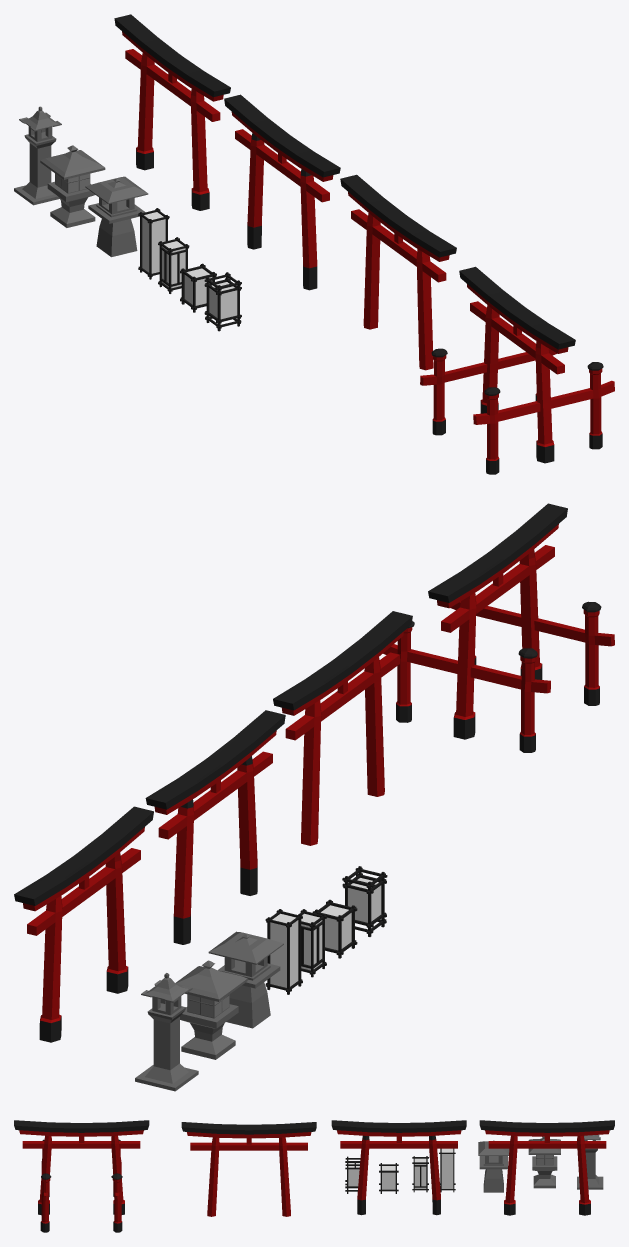
File: LowPoly_Japan1.fbx
3 views of the same model, one above another, from view 1: azimuth 30°, elevation 25°; view 2: azimuth 150°, elevation 25°; view 3: azimuth 270°, elevation 25° (orthographic). The views are drawn at different scales.
Visible parts, largest first — view 1: Shrine_Gate_4, Shrine_Gate_1, Shrine_Gate_2, Shrine_Gate_3, Shrine_Statue_3, Shrine_Statue_2, Shrine_Statue_1, Shrine_Lamp_4, Shrine_Lamp_1, Shrine_Lamp_2, Shrine_Lamp_3; view 2: Shrine_Gate_4, Shrine_Gate_1, Shrine_Gate_2, Shrine_Gate_3, Shrine_Statue_2, Shrine_Statue_3, Shrine_Statue_1, Shrine_Lamp_1, Shrine_Lamp_4, Shrine_Lamp_3, Shrine_Lamp_2; view 3: Shrine_Gate_4, Shrine_Gate_1, Shrine_Gate_3, Shrine_Gate_2, Shrine_Statue_3, Shrine_Statue_2, Shrine_Lamp_1, Shrine_Statue_1, Shrine_Lamp_2, Shrine_Lamp_3, Shrine_Lamp_4.
Part boxes in pixels (left/top/right/bottom): Shrine_Gate_4: left=420, top=266, right=614, bottom=474; Shrine_Gate_1: left=114, top=14, right=230, bottom=210; Shrine_Gate_2: left=224, top=94, right=340, bottom=290; Shrine_Gate_3: left=340, top=174, right=456, bottom=370; Shrine_Statue_3: left=85, top=176, right=148, bottom=257; Shrine_Statue_2: left=40, top=145, right=105, bottom=227; Shrine_Statue_1: left=14, top=106, right=61, bottom=205; Shrine_Lamp_4: left=204, top=272, right=241, bottom=331; Shrine_Lamp_1: left=138, top=208, right=169, bottom=279; Shrine_Lamp_2: left=158, top=237, right=189, bottom=293; Shrine_Lamp_3: left=180, top=263, right=216, bottom=312; Shrine_Gate_4: left=383, top=503, right=614, bottom=752; Shrine_Gate_1: left=14, top=806, right=153, bottom=1042; Shrine_Gate_2: left=145, top=710, right=285, bottom=944; Shrine_Gate_3: left=273, top=611, right=412, bottom=845; Shrine_Statue_2: left=175, top=960, right=247, bottom=1059; Shrine_Statue_3: left=208, top=931, right=283, bottom=1028; Shrine_Statue_1: left=135, top=973, right=198, bottom=1091; Shrine_Lamp_1: left=265, top=909, right=302, bottom=994; Shrine_Lamp_4: left=342, top=866, right=387, bottom=936; Shrine_Lamp_3: left=312, top=899, right=357, bottom=958; Shrine_Lamp_2: left=300, top=909, right=326, bottom=977; Shrine_Gate_4: left=14, top=1120, right=149, bottom=1232; Shrine_Gate_1: left=479, top=1120, right=614, bottom=1215; Shrine_Gate_3: left=181, top=1122, right=316, bottom=1216; Shrine_Gate_2: left=331, top=1120, right=466, bottom=1215; Shrine_Statue_3: left=478, top=1140, right=509, bottom=1192; Shrine_Statue_2: left=528, top=1136, right=560, bottom=1188; Shrine_Lamp_1: left=439, top=1148, right=455, bottom=1192; Shrine_Statue_1: left=577, top=1134, right=603, bottom=1189; Shrine_Lamp_2: left=412, top=1156, right=428, bottom=1192; Shrine_Lamp_3: left=379, top=1163, right=398, bottom=1193; Shrine_Lamp_4: left=345, top=1156, right=360, bottom=1193.
Size of the model in its own units: 744 by 534 by 2971.
